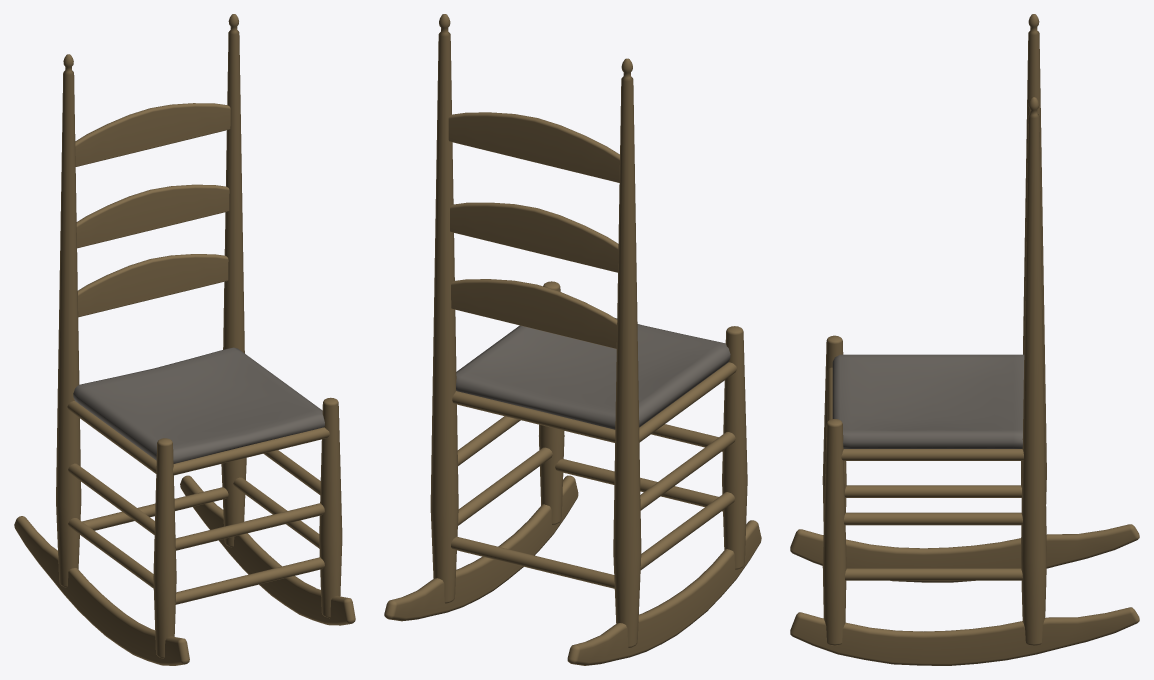
The model's file is Rocketchair_Horror.fbx.
3 views of the same model, side by side, from view 1: azimuth 30°, elevation 25°; view 2: azimuth 150°, elevation 25°; view 3: azimuth 270°, elevation 25° (orthographic). The views are drawn at different scales.
Visible parts, largest first — view 1: Chair_A; view 2: Chair_A; view 3: Chair_A.
Part boxes in pixels (left/top/right/bottom): Chair_A: left=14, top=14, right=355, bottom=665; Chair_A: left=384, top=14, right=761, bottom=665; Chair_A: left=790, top=14, right=1139, bottom=665.
Bounding box in the file's own units: 52.14 × 147 × 81.89.
